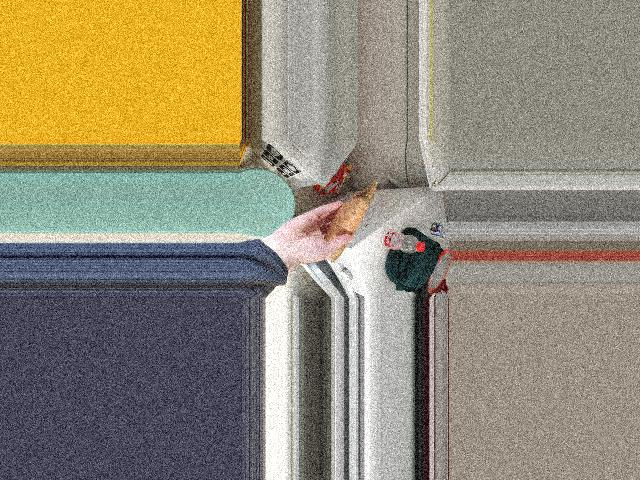sweet_potato: (328, 202, 364, 252)
